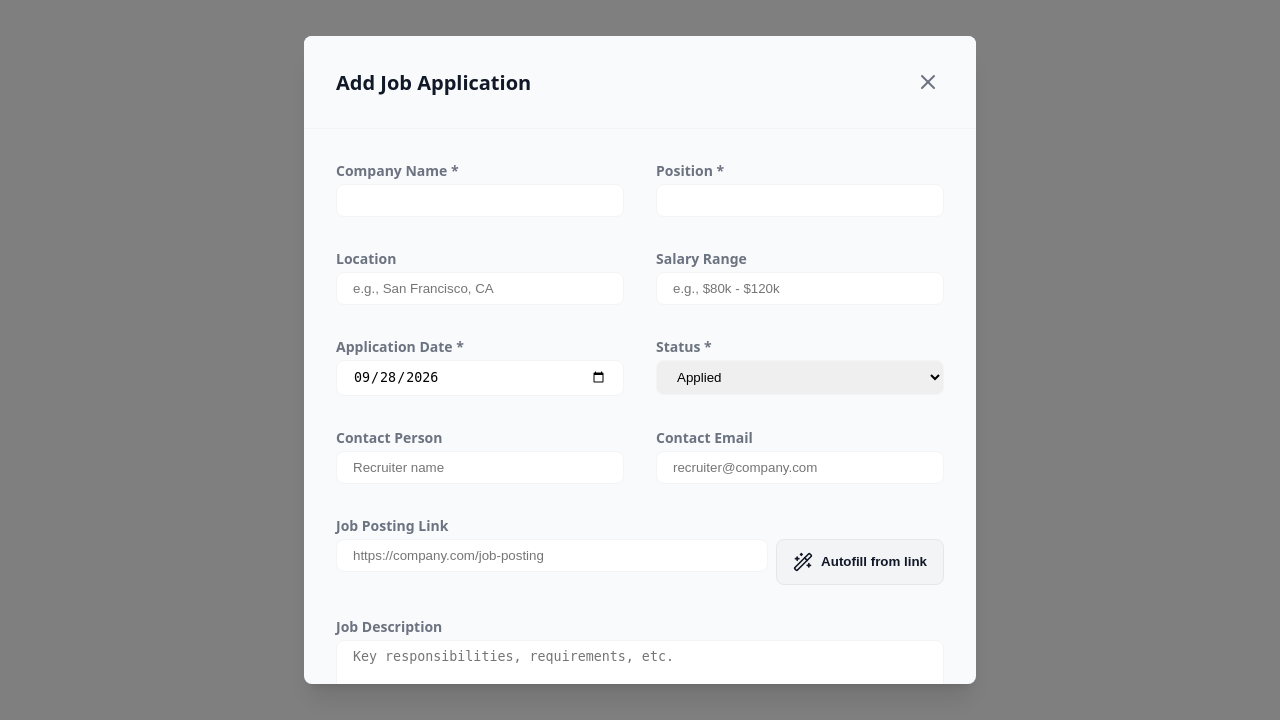
Test: JobApplicationForm autofill › shows a "not found" notice when the page has no structured job data
Type "https://example.com/jobs/123" into the field with placeholder "https://company.com/job-posting" at (552, 555), box [336,538,768,572]
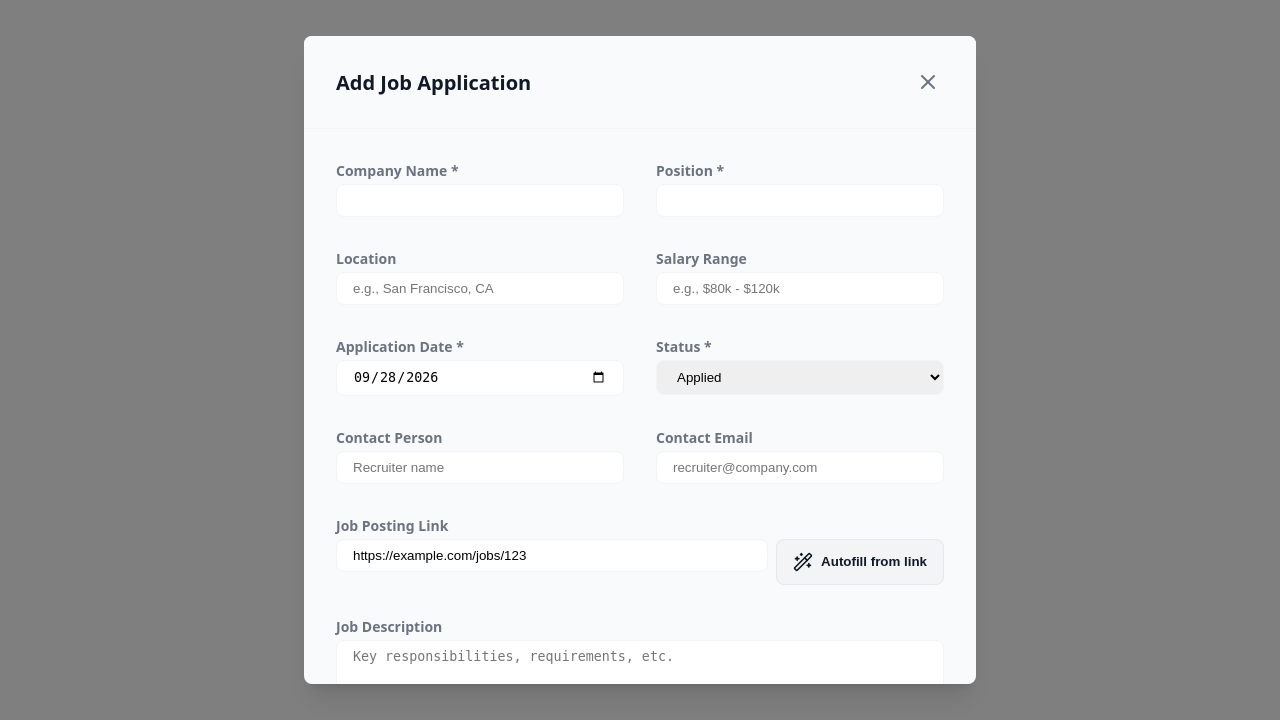
Click the button "Autofill from link" at (860, 562), box [776,538,944,584]
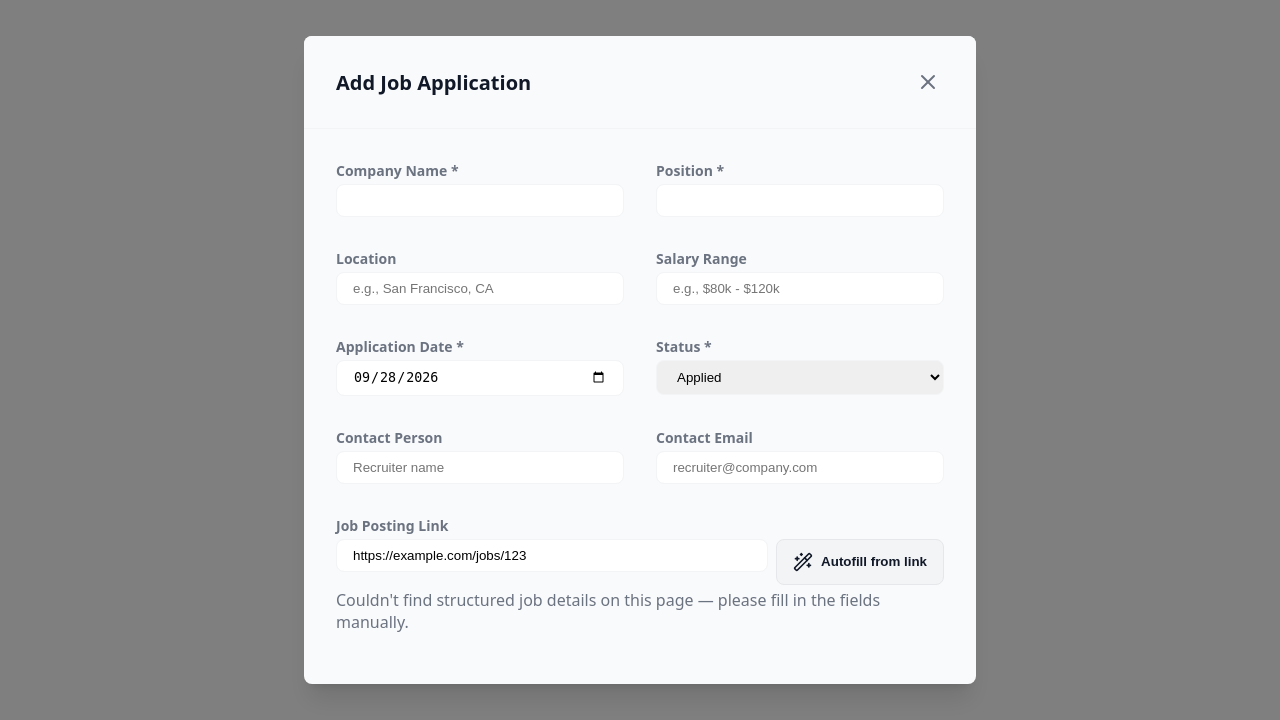
Expected: the text "Couldn't find structured job details" is shown, [336,588,880,632]
